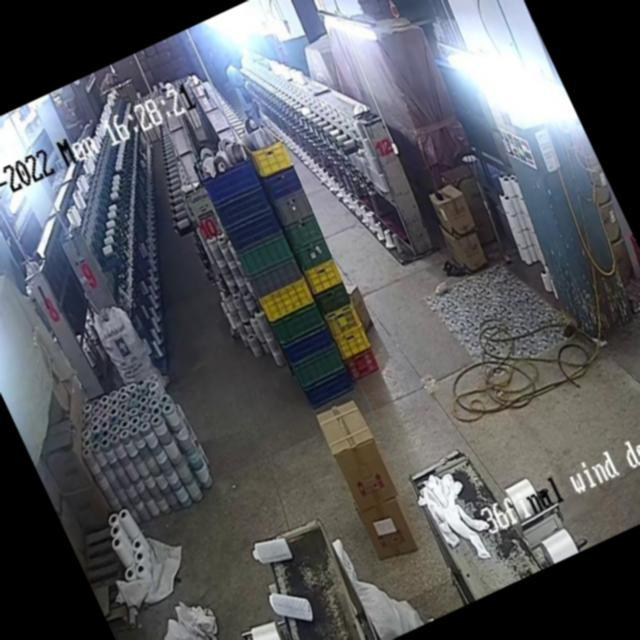person: (218, 47, 272, 133)
